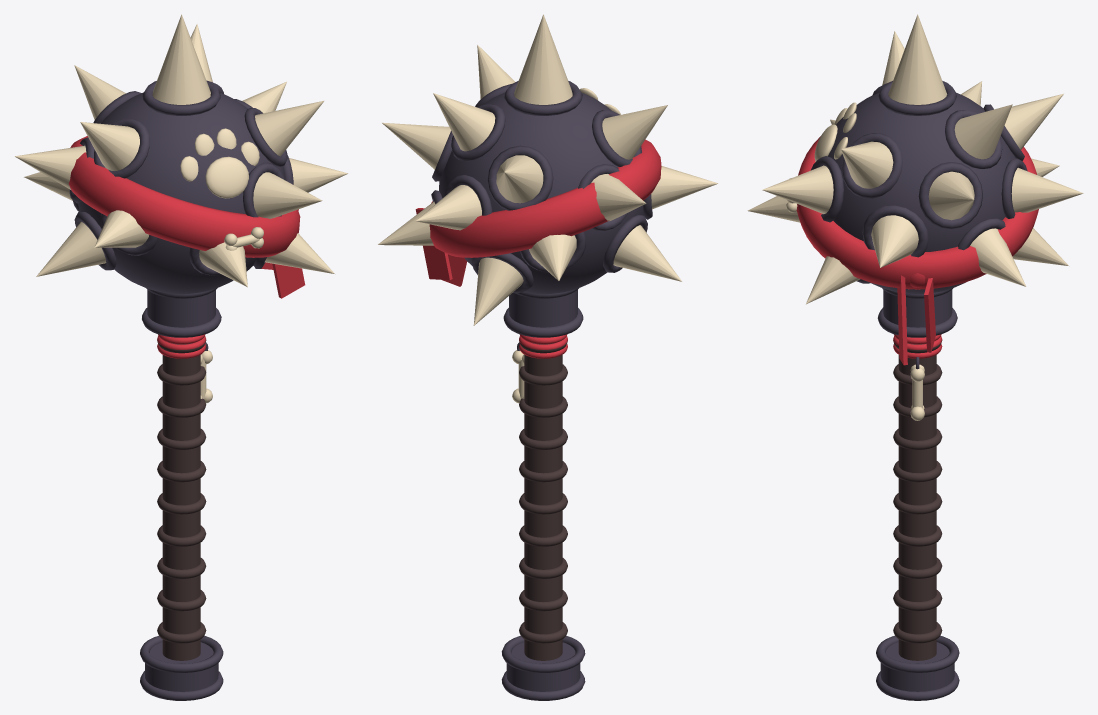
Rendered from maza_perros.glb.
3 views of the same model, side by side, from view 1: azimuth 30°, elevation 25°; view 2: azimuth 150°, elevation 25°; view 3: azimuth 270°, elevation 25° (orthographic).
Parts seen in each view (by area): view 1: Maza_Metal_oscuro, Maza_Hueso, Maza_Cuero, Maza_Tela_roja; view 2: Maza_Metal_oscuro, Maza_Hueso, Maza_Cuero, Maza_Tela_roja; view 3: Maza_Metal_oscuro, Maza_Hueso, Maza_Cuero, Maza_Tela_roja.
Boxes of the visible parts, x1,y1,x2,y2 form: Maza_Metal_oscuro: (69, 80, 293, 700); Maza_Hueso: (15, 14, 348, 403); Maza_Cuero: (157, 340, 206, 660); Maza_Tela_roja: (68, 136, 305, 358); Maza_Metal_oscuro: (431, 81, 652, 700); Maza_Hueso: (378, 14, 718, 403); Maza_Cuero: (519, 340, 567, 660); Maza_Tela_roja: (415, 139, 661, 358); Maza_Metal_oscuro: (811, 81, 1027, 700); Maza_Hueso: (747, 14, 1083, 420); Maza_Cuero: (893, 340, 942, 660); Maza_Tela_roja: (796, 136, 1038, 365).
Size of the model in its own units: 0.4361 by 0.9647 by 0.4378.
